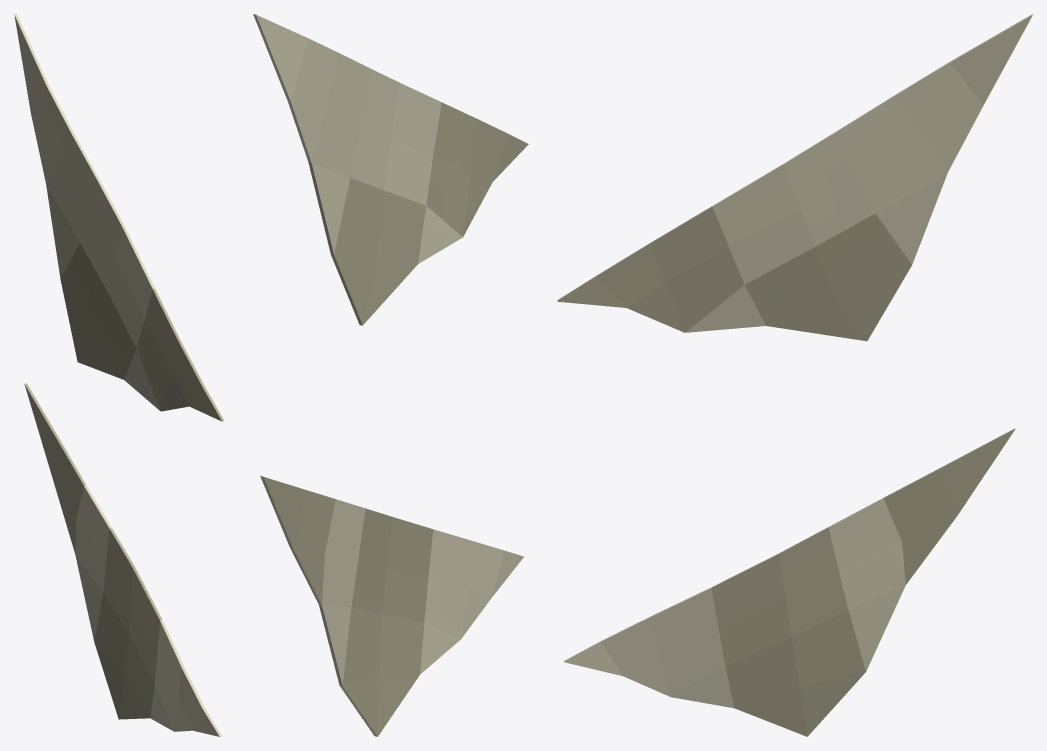
The model's file is LargeShip_1_Sails3.fbx.
3 renders of one model, left to right at view 1: azimuth 30°, elevation 25°; view 2: azimuth 150°, elevation 25°; view 3: azimuth 270°, elevation 25°, orthographic. The views are drawn at different scales.
Visible parts, largest first — view 1: LargeShip_1_Sails3; view 2: LargeShip_1_Sails3; view 3: LargeShip_1_Sails3.
Part boxes in pixels (<box>): LargeShip_1_Sails3: <box>14,14,224,736</box>; LargeShip_1_Sails3: <box>253,14,528,736</box>; LargeShip_1_Sails3: <box>557,14,1032,736</box>.
Bounding box in the file's own units: 59.33 × 1723 × 1033.
